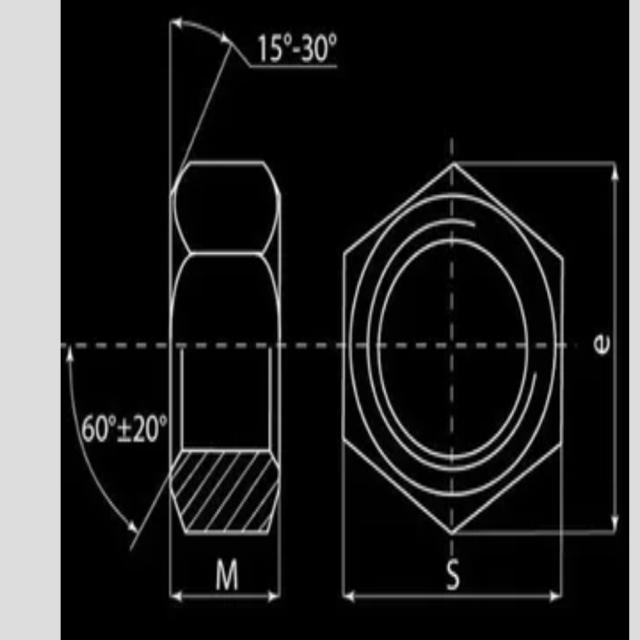marking_line: (165, 17, 339, 158), (62, 341, 167, 549), (567, 158, 622, 538), (339, 537, 567, 606), (166, 539, 282, 606), (473, 157, 620, 174)
numeric: (212, 557, 240, 590), (443, 554, 464, 590), (130, 410, 146, 444), (146, 409, 161, 443), (314, 29, 327, 65), (81, 413, 93, 445), (116, 414, 132, 438), (270, 29, 281, 63), (95, 414, 108, 442), (301, 29, 312, 62), (257, 31, 267, 63), (114, 434, 133, 446)
special_symbol: (327, 30, 337, 48), (282, 32, 292, 46), (109, 412, 115, 428), (159, 413, 166, 426)
